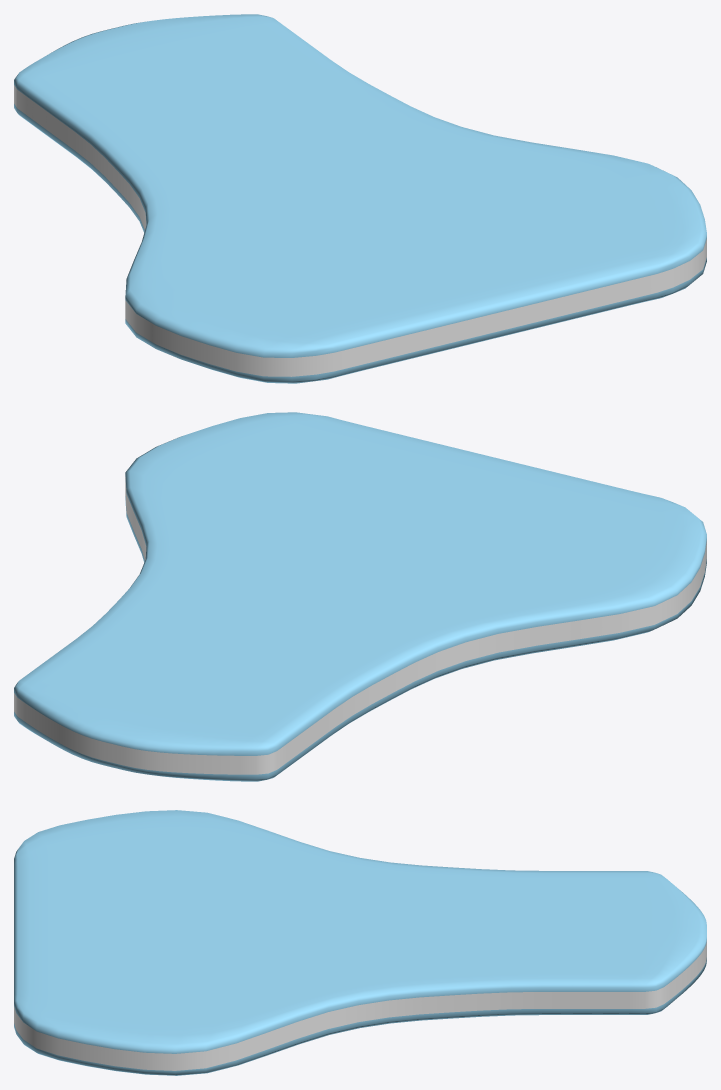
The model's file is GloveFBX.fbx.
3 views of the same model, one above another, from view 1: azimuth 30°, elevation 25°; view 2: azimuth 150°, elevation 25°; view 3: azimuth 270°, elevation 25° (orthographic). The views are drawn at different scales.
Visible parts, largest first — view 1: Mesh; view 2: Mesh; view 3: Mesh.
Part boxes in pixels (x1,y1,x2,y2): Mesh: [14, 14, 706, 383]; Mesh: [14, 412, 706, 781]; Mesh: [14, 810, 706, 1075].
Bounding box in the file's own units: 4.41 × 0.2923 × 5.41.
Materials: 1 (1 with a texture image).
